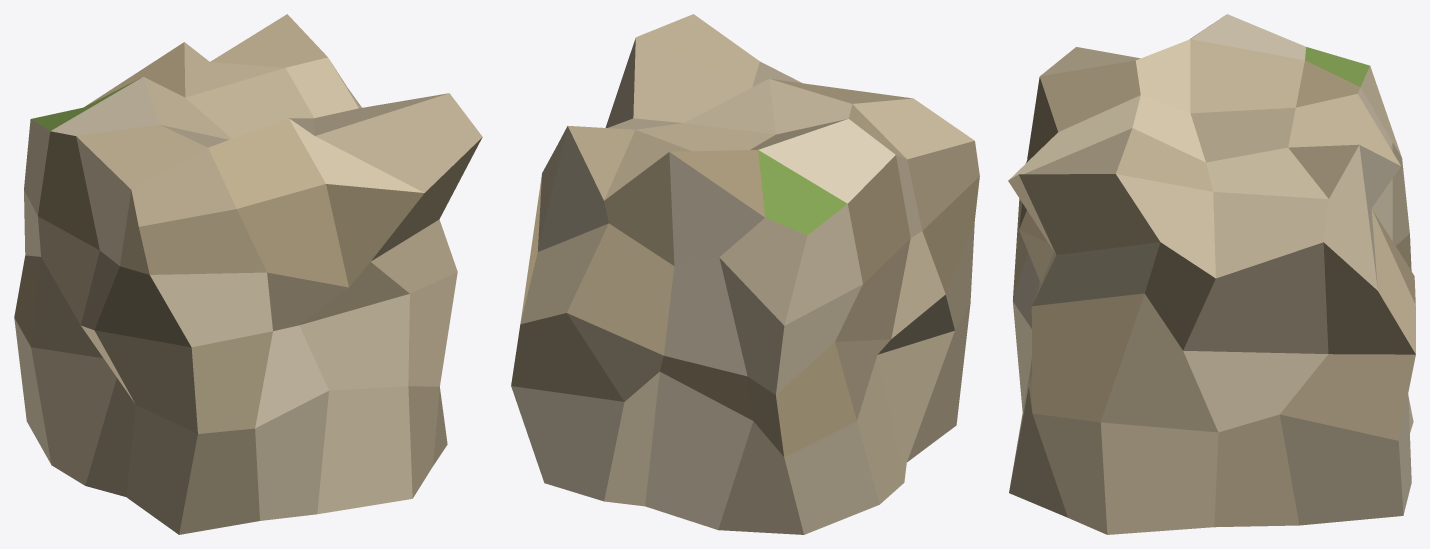
File: Limestone_b.fbx
3 renders of one model, left to right at view 1: azimuth 30°, elevation 25°; view 2: azimuth 150°, elevation 25°; view 3: azimuth 270°, elevation 25°, orthographic. The views are drawn at different scales.
Parts seen in each view (by area): view 1: Limestone_b; view 2: Limestone_b; view 3: Limestone_b.
Part boxes in pixels (x1=…): Limestone_b: x1=14, y1=14, x2=482, y2=534; Limestone_b: x1=511, y1=14, x2=979, y2=534; Limestone_b: x1=1008, y1=14, x2=1415, y2=534.
Size of what is drawn, in the model's own units: 1 by 1 by 1.
